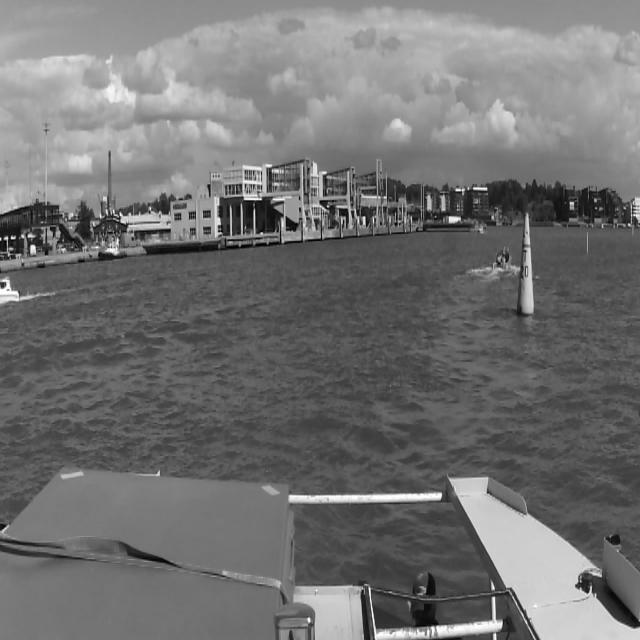buoy: (518, 215, 534, 313)
ship: (99, 238, 125, 260), (1, 278, 23, 303), (492, 252, 514, 274), (476, 225, 486, 235)
